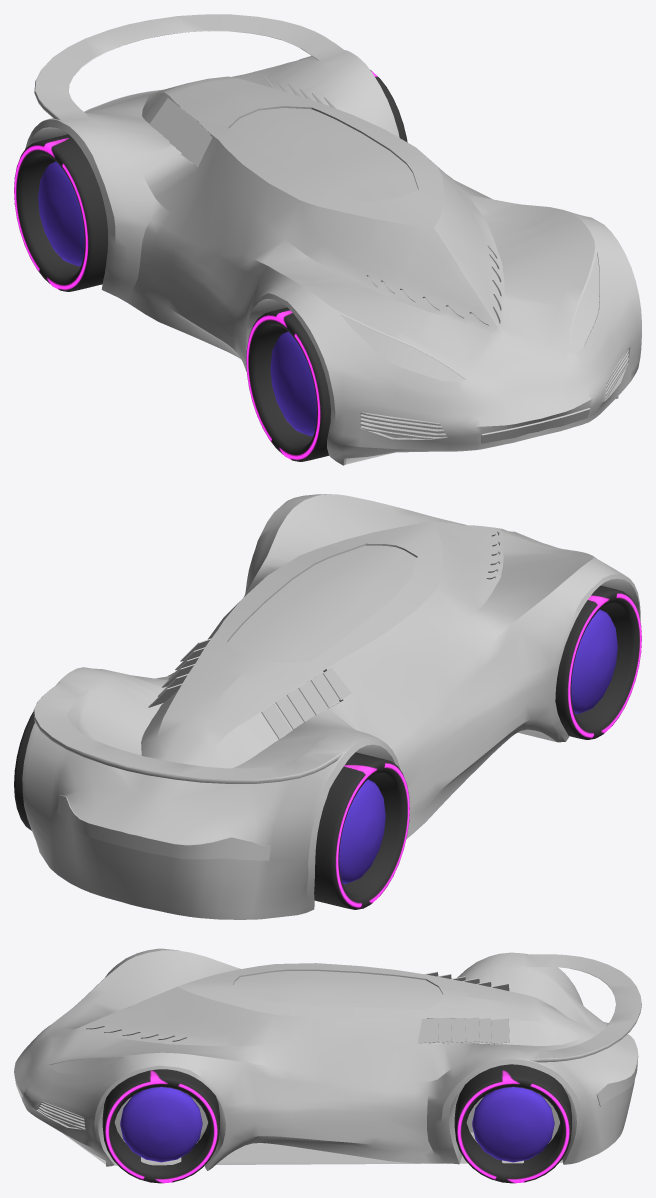
Rendered from CyberCar-GameS_Mesh.fbx.
The picture shows the model from 3 angles, top to bottom: view 1: azimuth 30°, elevation 25°; view 2: azimuth 150°, elevation 25°; view 3: azimuth 270°, elevation 25°; orthographic projection. The views are drawn at different scales.
Visible parts, largest first — view 1: FuturisticCar, FuturisticWheel.003, FuturisticWheel.002; view 2: FuturisticCar, FuturisticWheel.003, FuturisticWheel.002, FuturisticWheel; view 3: FuturisticCar, FuturisticWheel, FuturisticWheel.001.
Part boxes in pixels (x1=…): FuturisticCar: x1=25, y1=14, x2=641, y2=465; FuturisticWheel.003: x1=14, y1=134, x2=107, y2=291; FuturisticWheel.002: x1=246, y1=307, x2=330, y2=461; FuturisticCar: x1=22, y1=494, x2=640, y2=919; FuturisticWheel.003: x1=314, y1=752, x2=409, y2=909; FuturisticWheel.002: x1=555, y1=585, x2=641, y2=739; FuturisticWheel: x1=14, y1=711, x2=34, y2=830; FuturisticCar: x1=14, y1=948, x2=641, y2=1170; FuturisticWheel: x1=454, y1=1064, x2=571, y2=1183; FuturisticWheel.001: x1=102, y1=1069, x2=219, y2=1183.
Bounding box in the file's own units: 202 × 111 × 449.
